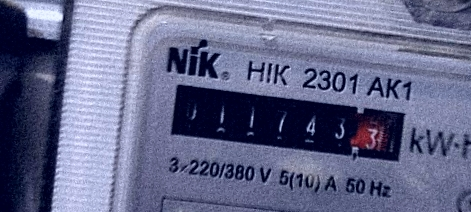0: (183, 94, 200, 123)
1: (244, 101, 259, 130), (215, 97, 228, 125)
3: (332, 114, 349, 142), (362, 126, 378, 152)
4: (302, 110, 319, 139)
7: (272, 104, 290, 133)
screen: (158, 73, 418, 174)
